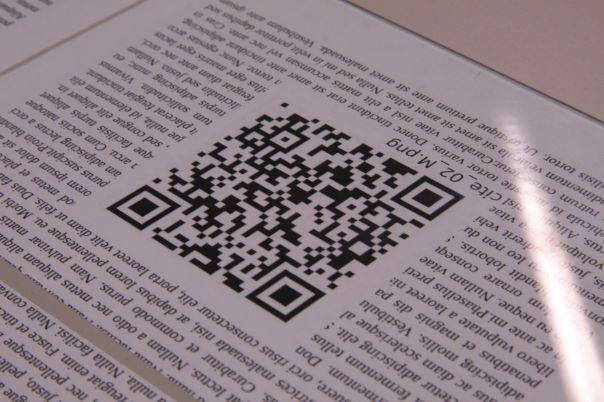Finder pattern: (245, 271, 324, 320), (392, 177, 468, 222), (110, 185, 179, 230)
